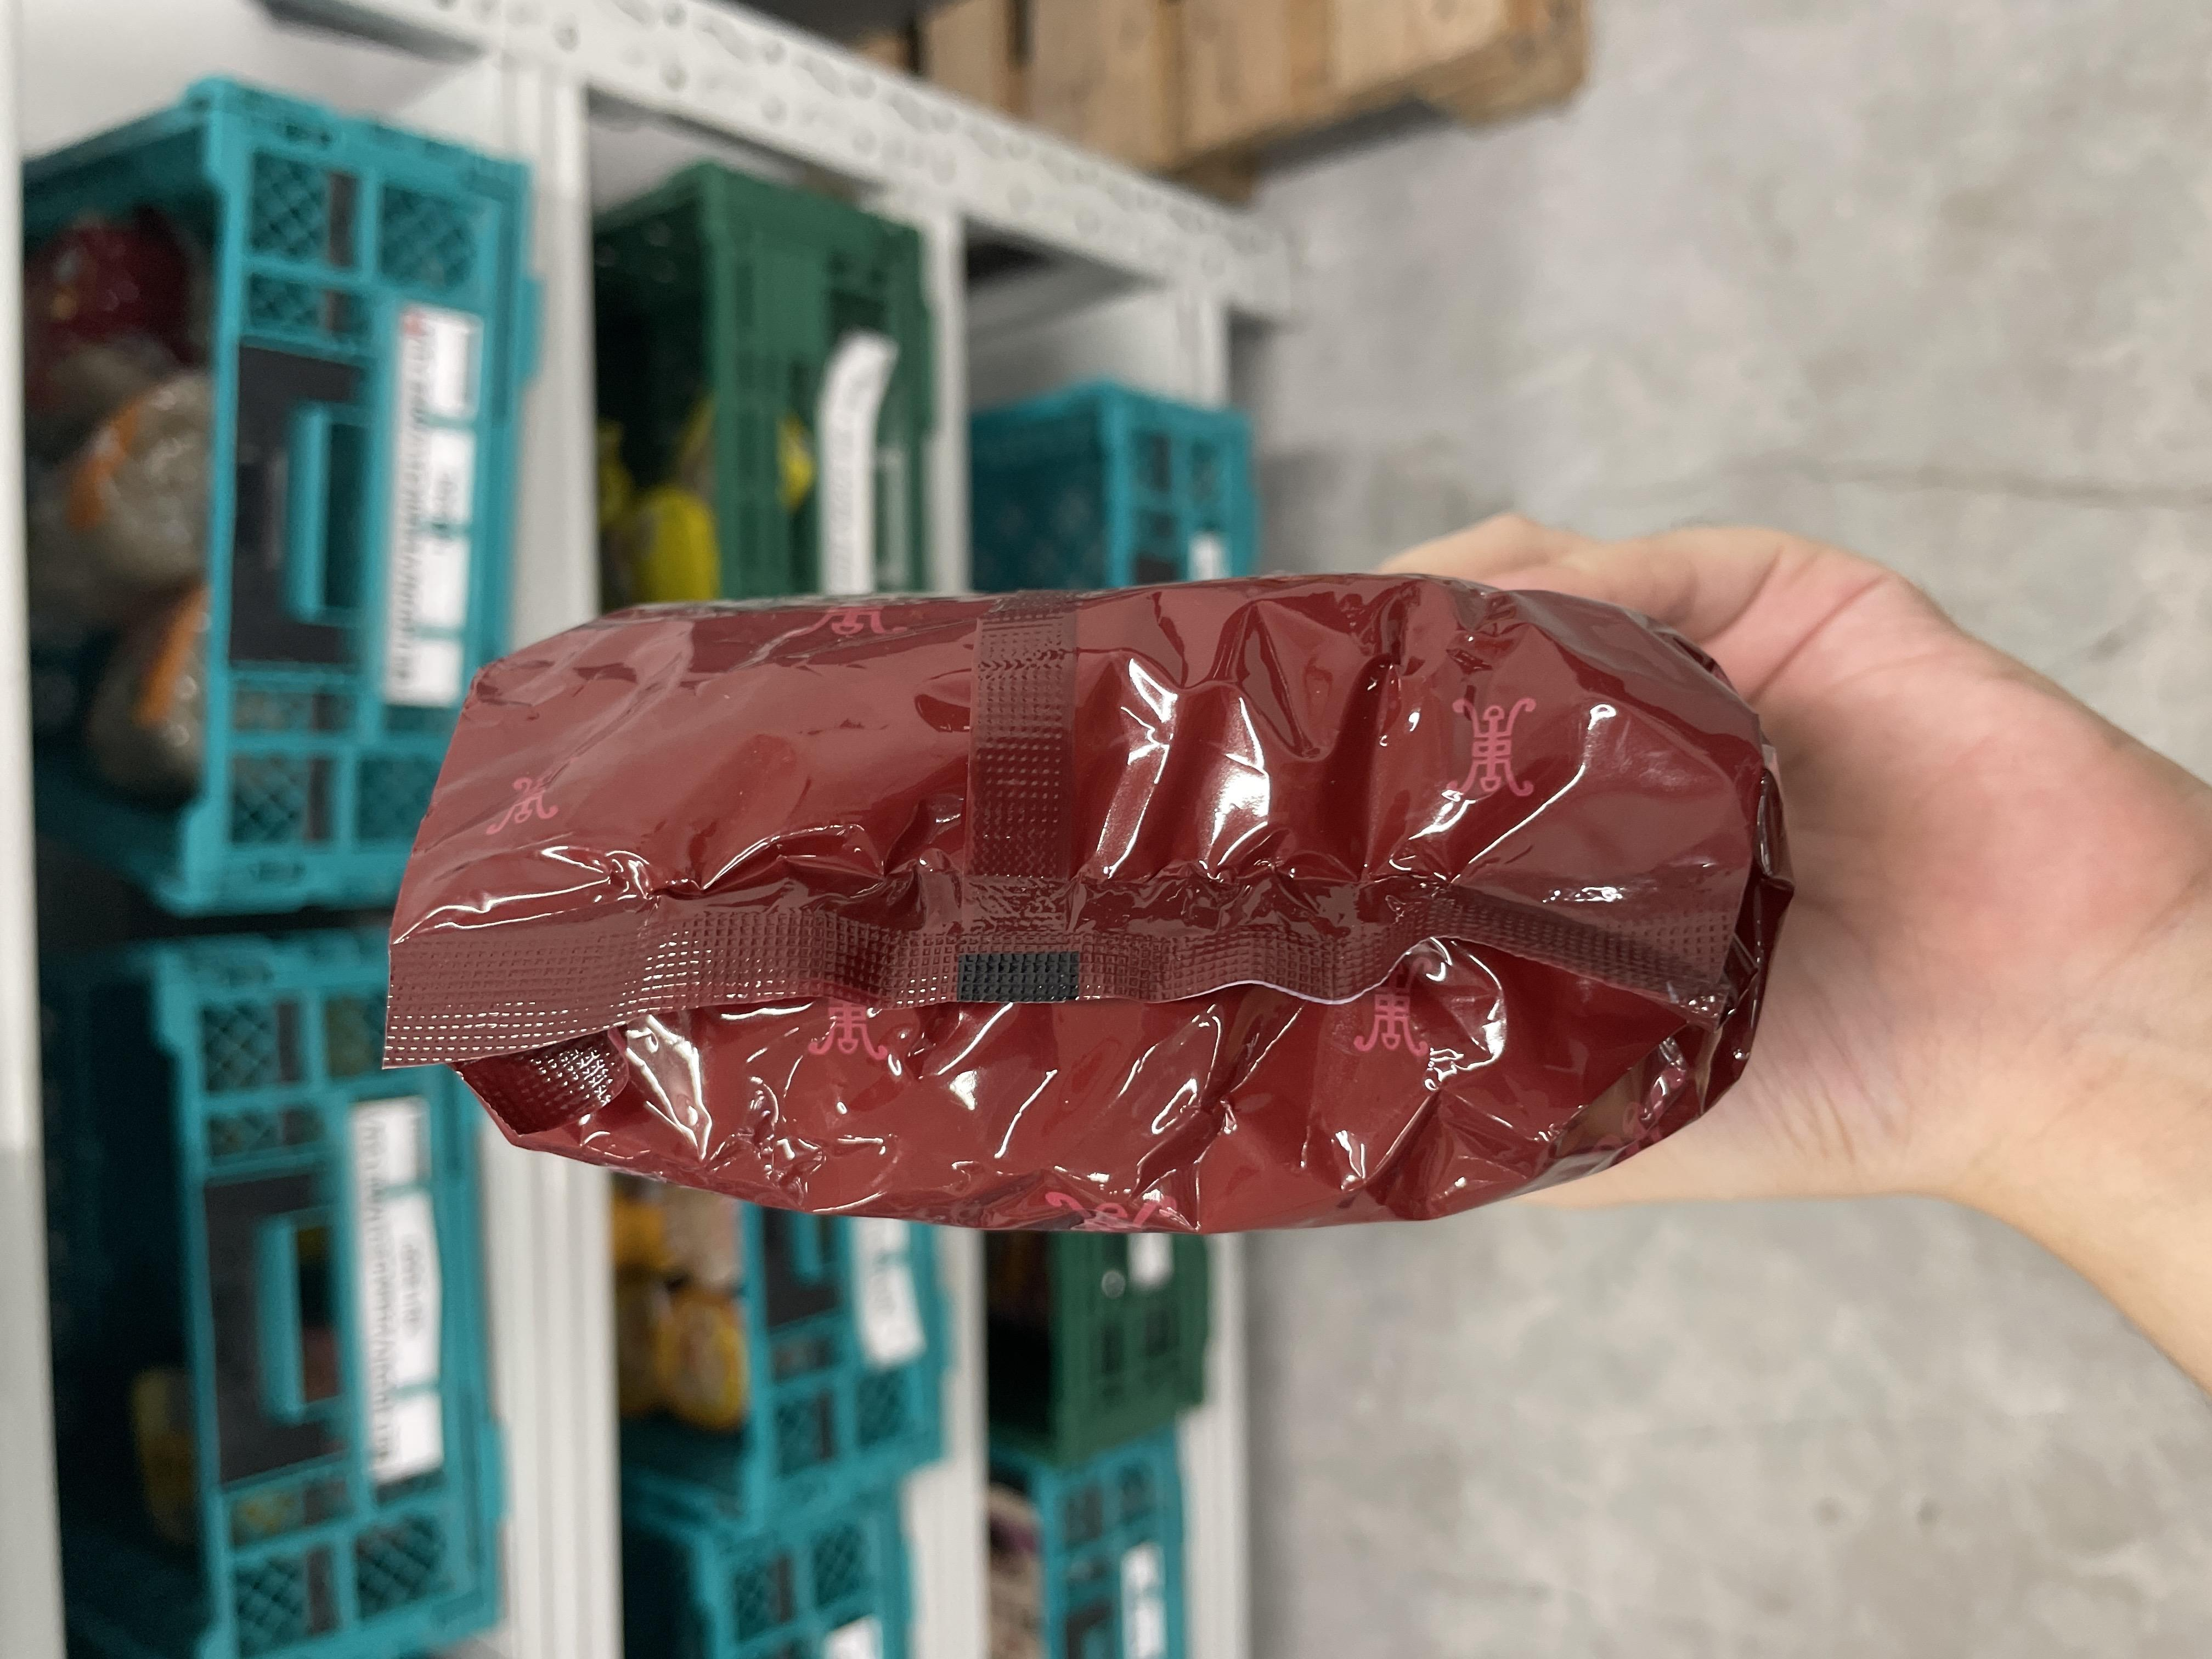object_name: (493, 477, 1049, 1659)
